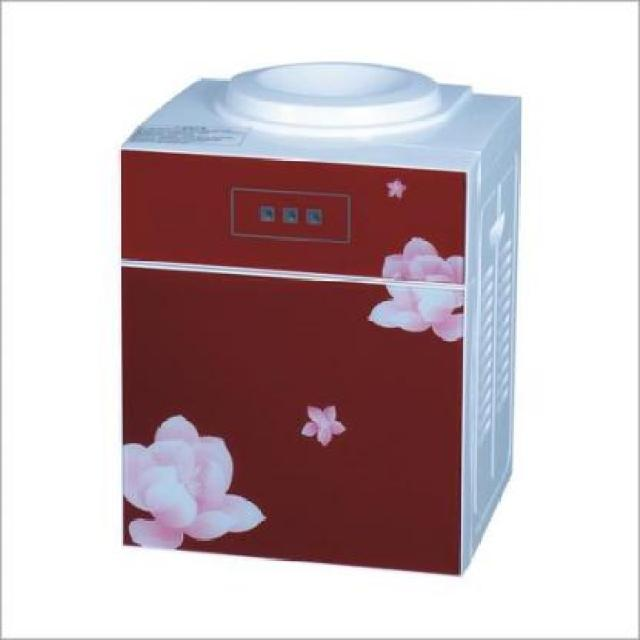cooler: (117, 57, 521, 580)
